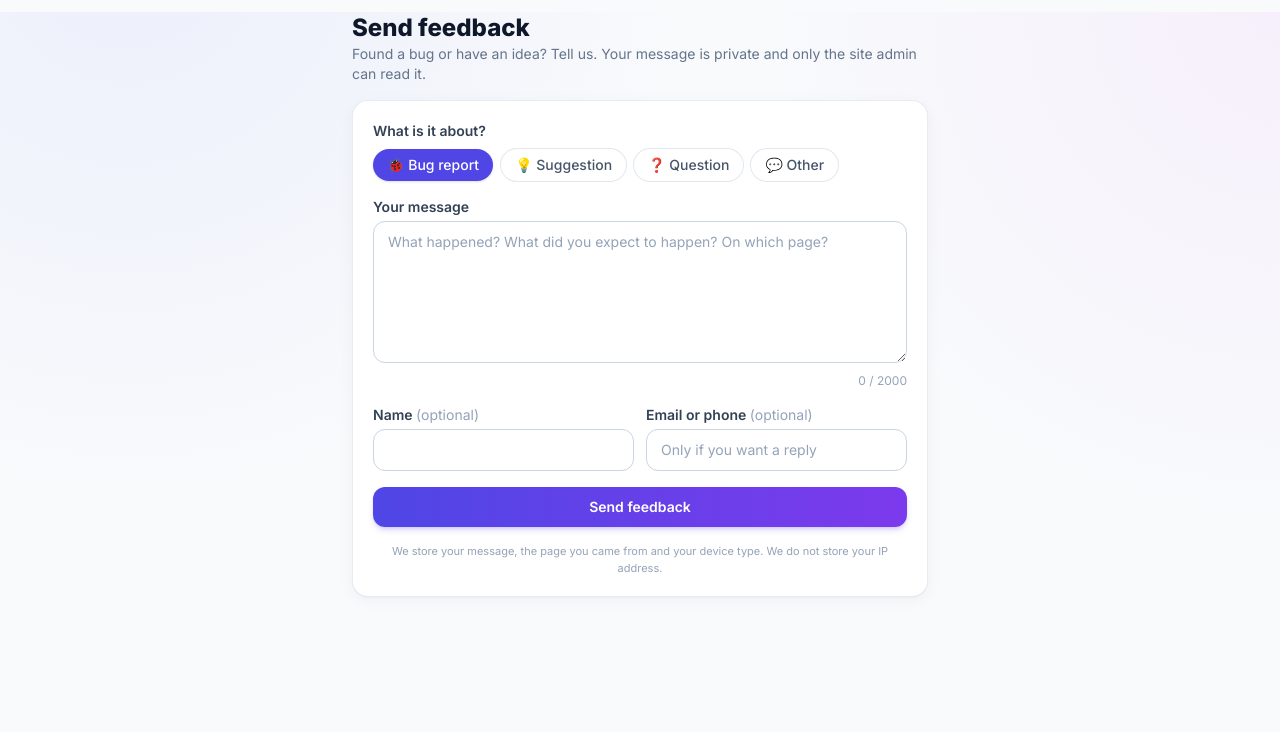
Scenario: shows the server error and keeps what was typed
Type "A perfectly fine message" into the text box labelled "Your message".
click(640, 292); type("A perfectly fine message")  # box [373, 221, 907, 363]
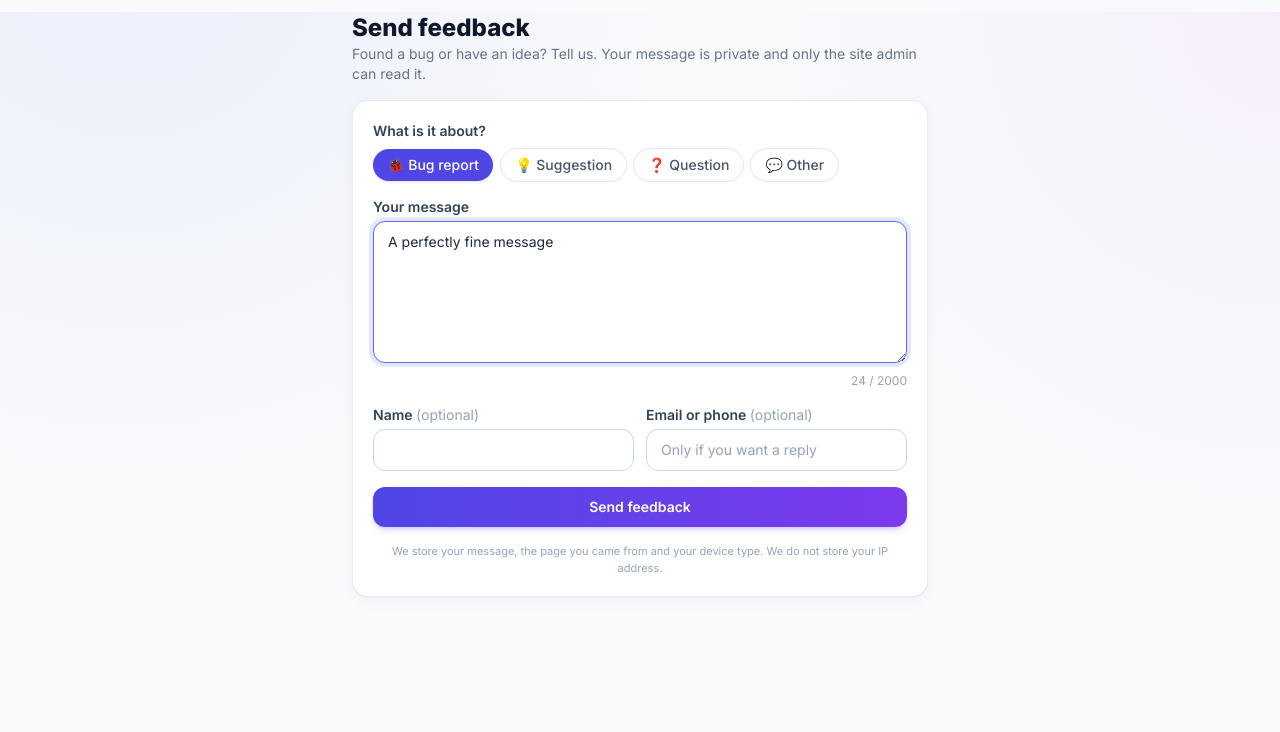
Click the button "Send feedback".
click(640, 507)  # box [373, 487, 907, 527]
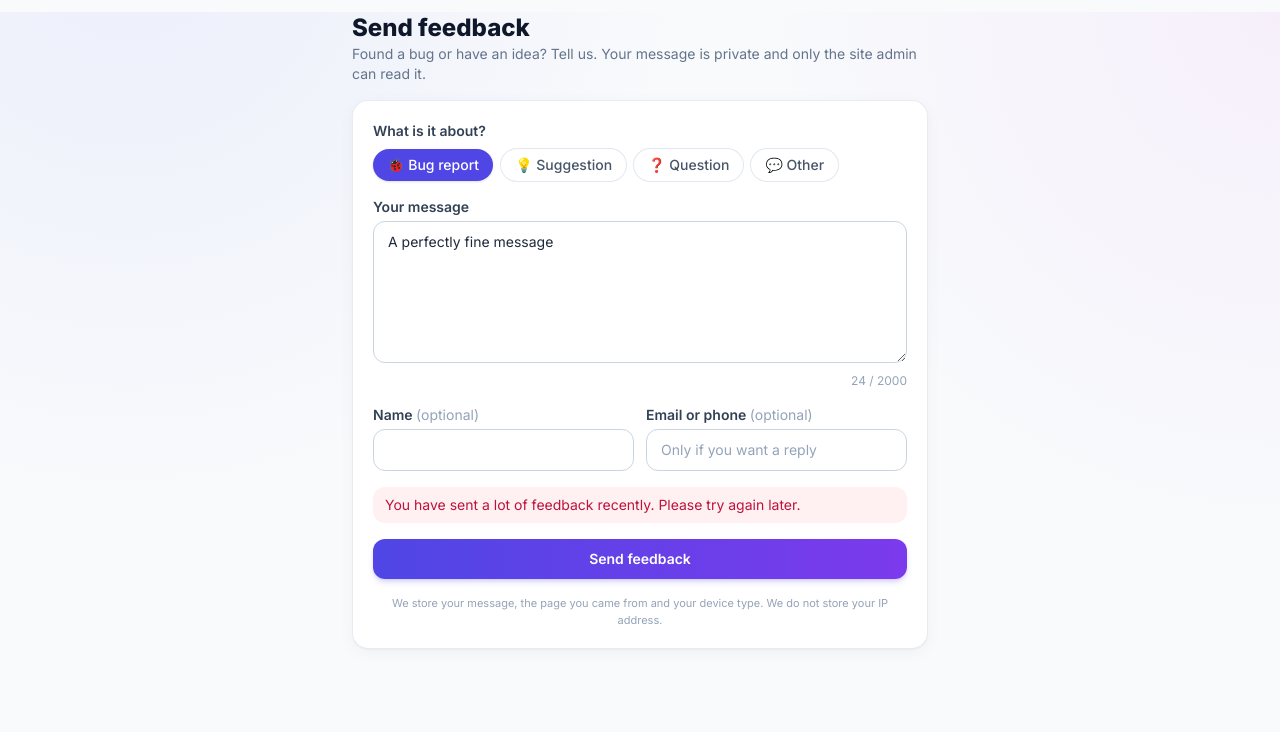
Check: the message shows "lot of feedback", box [385, 496, 800, 513]
